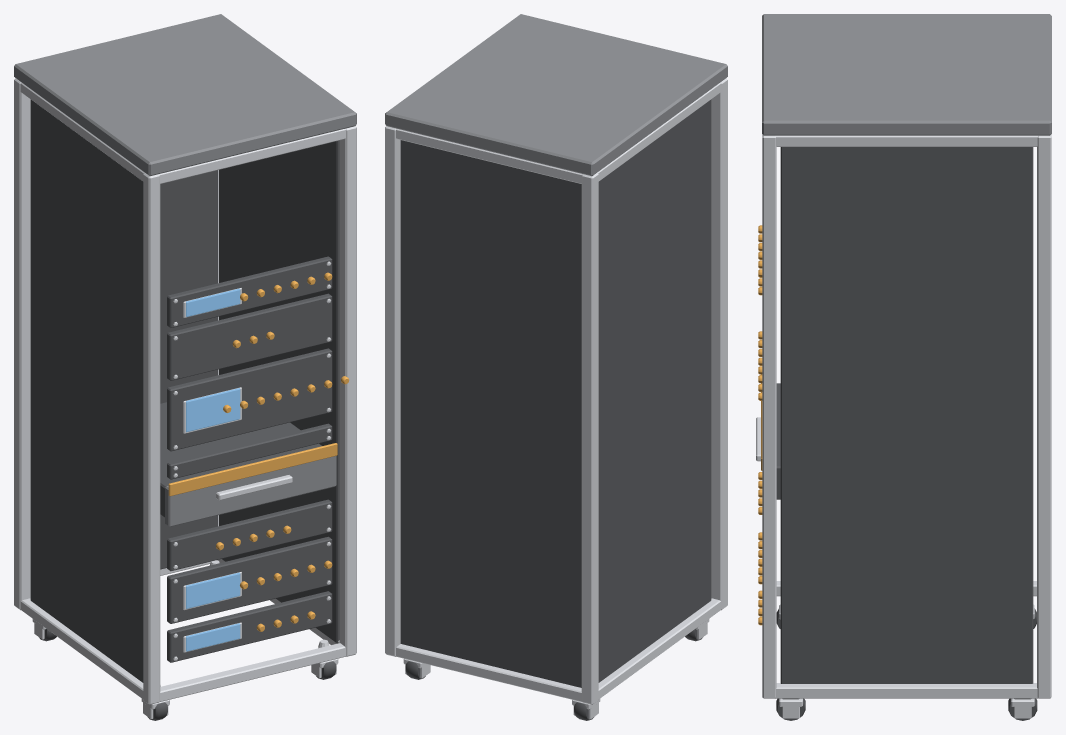
The model's file is 35520_Equipment_Rack_with_Gear__TV_Studio_and_Broadcast_Gallery_.glb.
3 renders of one model, left to right at view 1: azimuth 30°, elevation 25°; view 2: azimuth 150°, elevation 25°; view 3: azimuth 270°, elevation 25°, orthographic. The views are drawn at different scales.
Parts seen in each view (by area): view 1: rack-cabinet-with-gear, drawer/gear, drawer/dark, drawer/metal; view 2: rack-cabinet-with-gear; view 3: rack-cabinet-with-gear, drawer/dark.
Part boxes in pixels (<box>): rack-cabinet-with-gear: <box>14,14,356,720</box>; drawer/gear: <box>165,456,336,526</box>; drawer/dark: <box>160,402,321,517</box>; drawer/metal: <box>216,475,292,500</box>; rack-cabinet-with-gear: <box>385,14,727,720</box>; rack-cabinet-with-gear: <box>758,14,1051,720</box>; drawer/dark: <box>776,383,780,499</box>.
Size of the model in its own units: 0.62 by 1.62 by 0.714.
